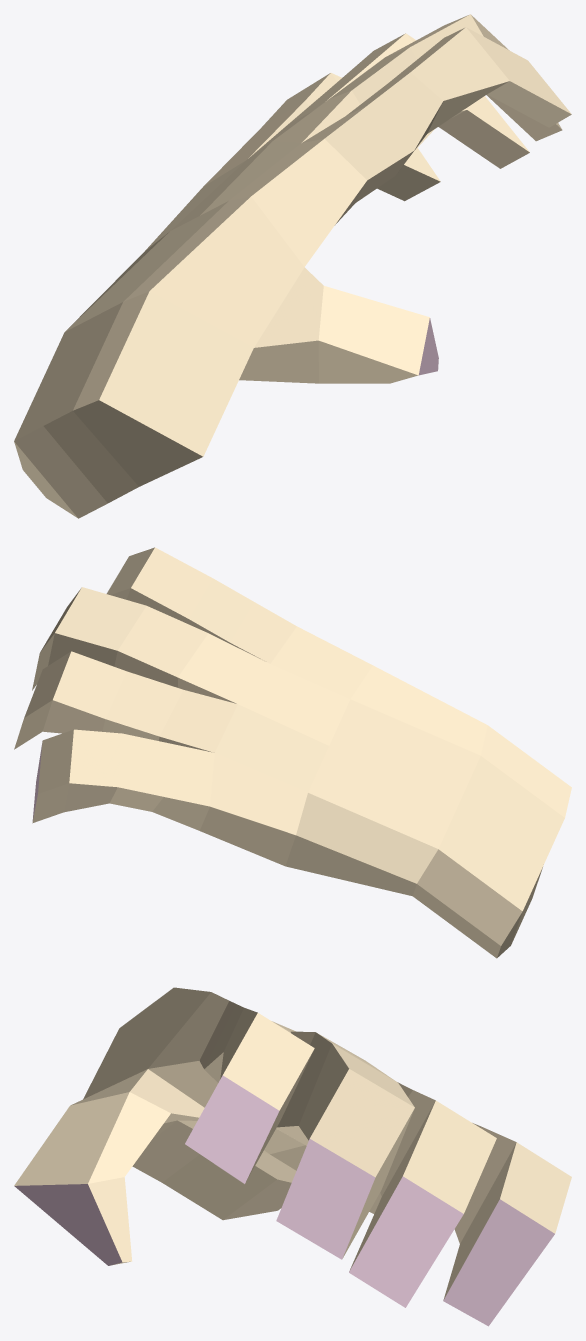
The model's file is hand2.fbx.
3 views of the same model, one above another, from view 1: azimuth 30°, elevation 25°; view 2: azimuth 150°, elevation 25°; view 3: azimuth 270°, elevation 25° (orthographic). The views are drawn at different scales.
Visible parts, largest first — view 1: Mao; view 2: Mao; view 3: Mao.
Part boxes in pixels (<box>): Mao: <box>14,14,571,518</box>; Mao: <box>14,547,571,958</box>; Mao: <box>14,987,571,1326</box>.
Size of the model in its own units: 478 by 317 by 374.
